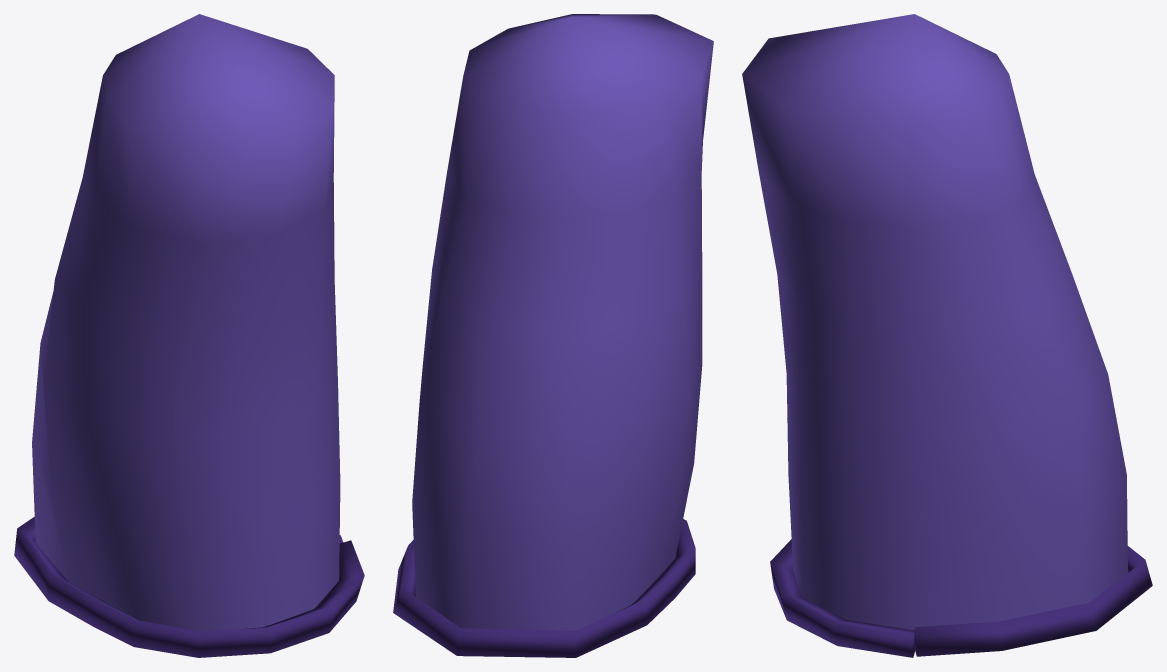
File: demonite_armor_boot.R.glb
3 views of the same model, side by side, from view 1: azimuth 30°, elevation 25°; view 2: azimuth 150°, elevation 25°; view 3: azimuth 270°, elevation 25° (orthographic). The views are drawn at different scales.
Visible parts, largest first — view 1: demonite_armor_boot.R; view 2: demonite_armor_boot.R; view 3: demonite_armor_boot.R.
Part boxes in pixels (bbox=[...]): demonite_armor_boot.R: bbox=[14, 14, 364, 657]; demonite_armor_boot.R: bbox=[393, 14, 713, 657]; demonite_armor_boot.R: bbox=[742, 14, 1152, 657].
Size of the model in its own units: 0.1433 by 0.2958 by 0.1912.
